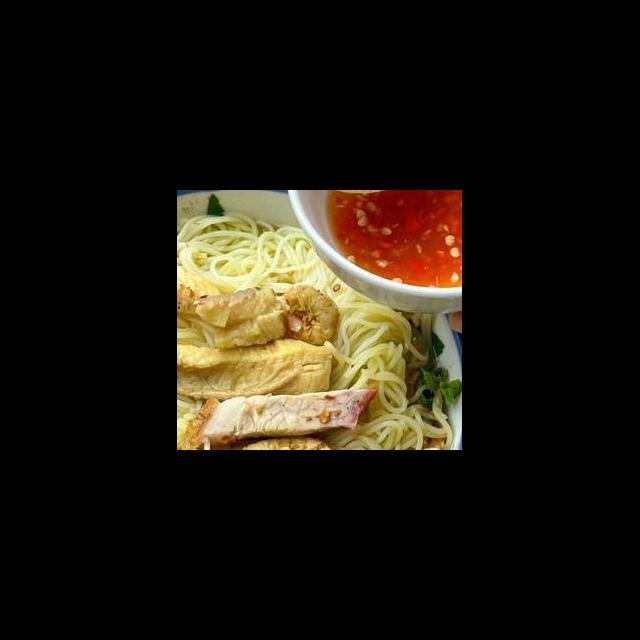bun: (178, 217, 324, 287), (336, 289, 406, 388), (372, 389, 422, 450)
bun ca: (178, 205, 380, 450)
ca: (178, 345, 332, 402), (196, 287, 286, 349)
thit heo quay: (178, 385, 382, 450)
